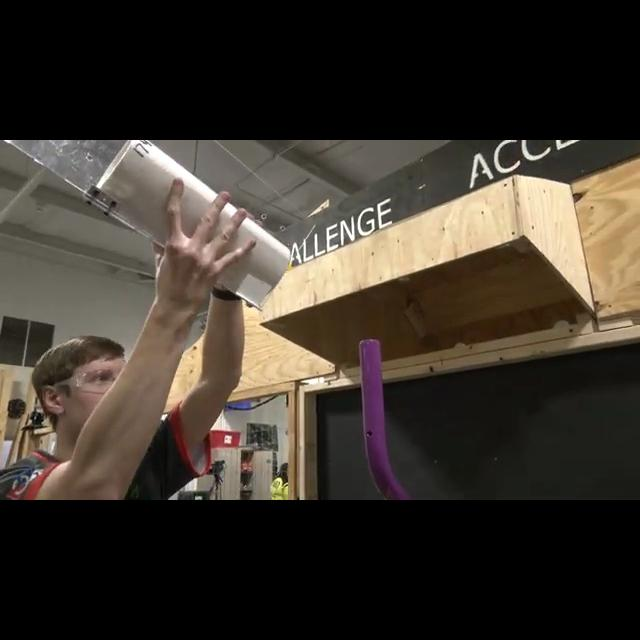CORAL: (93, 140, 291, 308)
